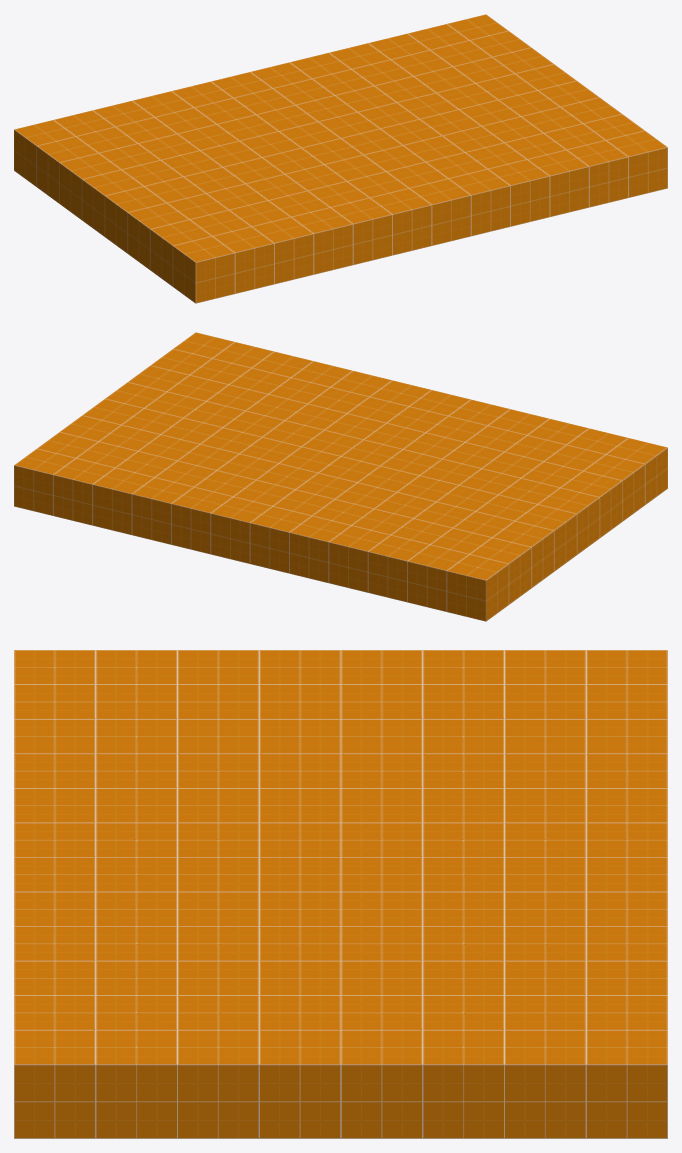
The model's file is Block_12x8x1.obj.
3 views of the same model, one above another, from view 1: azimuth 30°, elevation 25°; view 2: azimuth 150°, elevation 25°; view 3: azimuth 270°, elevation 25° (orthographic). The views are drawn at different scales.
Parts seen in each view (by area): view 1: Block_12x8x1_Cube.248; view 2: Block_12x8x1_Cube.248; view 3: Block_12x8x1_Cube.248.
Part boxes in pixels (x1=…): Block_12x8x1_Cube.248: x1=14, y1=14, x2=667, y2=303; Block_12x8x1_Cube.248: x1=14, y1=332, x2=667, y2=621; Block_12x8x1_Cube.248: x1=14, y1=650, x2=667, y2=1138.
Bounding box in the file's own units: 12 × 1 × 8.
1 material, 1 textured.
